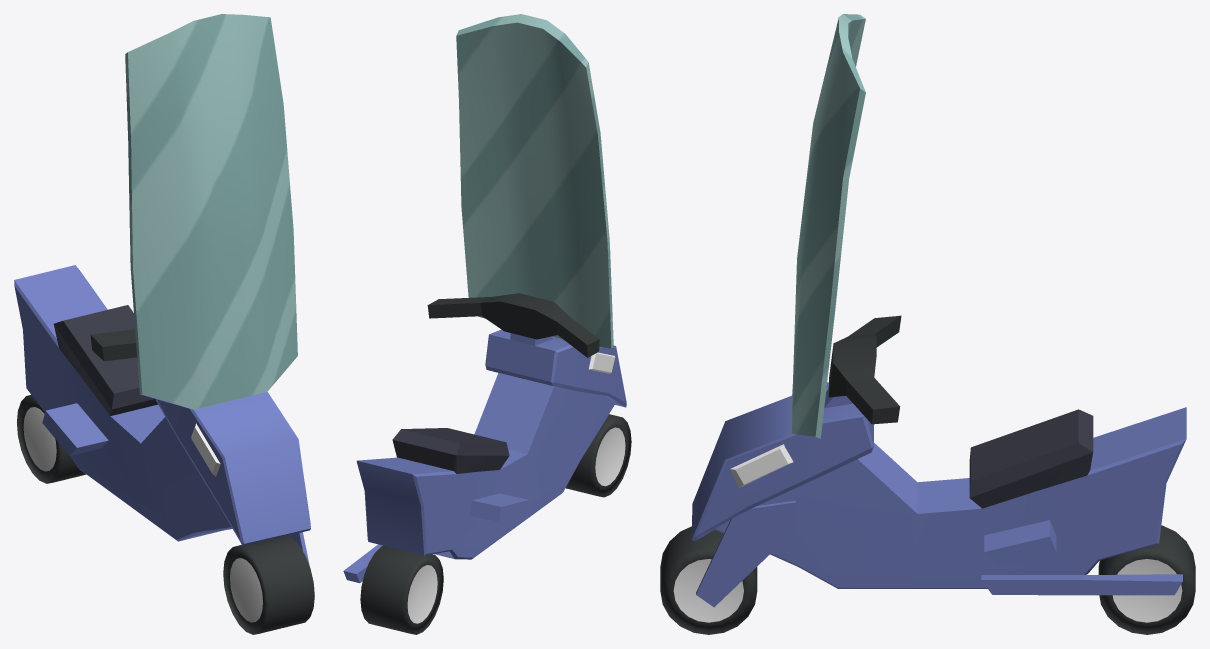
File: motorcycle 1 blue.fbx
3 views of the same model, side by side, from view 1: azimuth 30°, elevation 25°; view 2: azimuth 150°, elevation 25°; view 3: azimuth 270°, elevation 25° (orthographic). The views are drawn at different scales.
Parts seen in each view (by area): view 1: motorcycle_1_blue; view 2: motorcycle_1_blue; view 3: motorcycle_1_blue.
Boxes of the visible parts, x1,y1,x2,y2 form: motorcycle_1_blue: [14, 14, 314, 634]; motorcycle_1_blue: [343, 14, 631, 634]; motorcycle_1_blue: [660, 14, 1195, 634].
Bounding box in the file's own units: 47.17 × 143 × 116.
